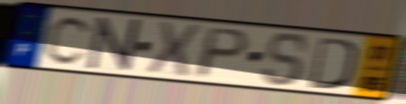C: (42, 13, 96, 66)
D: (307, 35, 358, 92)
N: (86, 15, 143, 73)
P: (192, 25, 253, 80)
S: (261, 31, 311, 88)
X: (144, 19, 203, 78)
